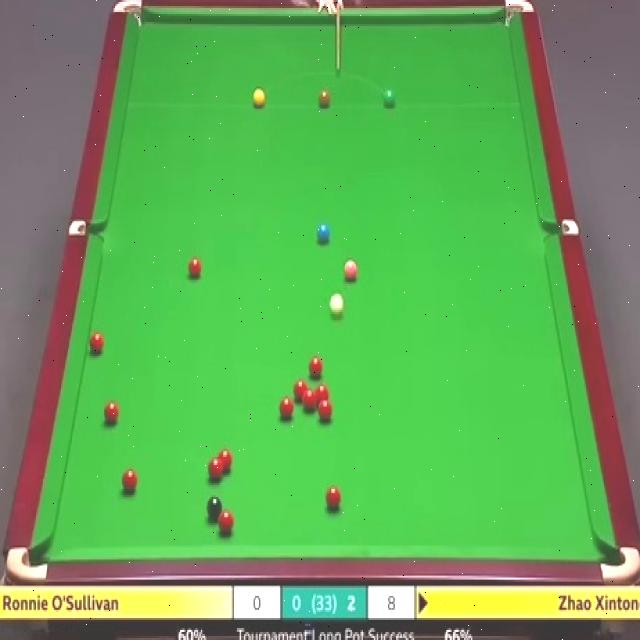black-ball: (206, 494, 224, 525)
blue-ball: (317, 222, 332, 246)
brown-ball: (318, 89, 331, 110)
green-ball: (381, 89, 395, 110)
pink-ball: (342, 256, 361, 284)
red-ball: (217, 511, 236, 539), (206, 458, 225, 483), (306, 354, 324, 380), (103, 399, 119, 427), (121, 468, 138, 494), (88, 330, 104, 356), (278, 396, 294, 421), (325, 486, 341, 511), (302, 389, 318, 413), (187, 256, 203, 279), (318, 398, 333, 422), (218, 448, 234, 470), (292, 379, 308, 400), (315, 384, 331, 402)
white-ball: (328, 293, 345, 319)
yellow-ball: (252, 88, 266, 109)
